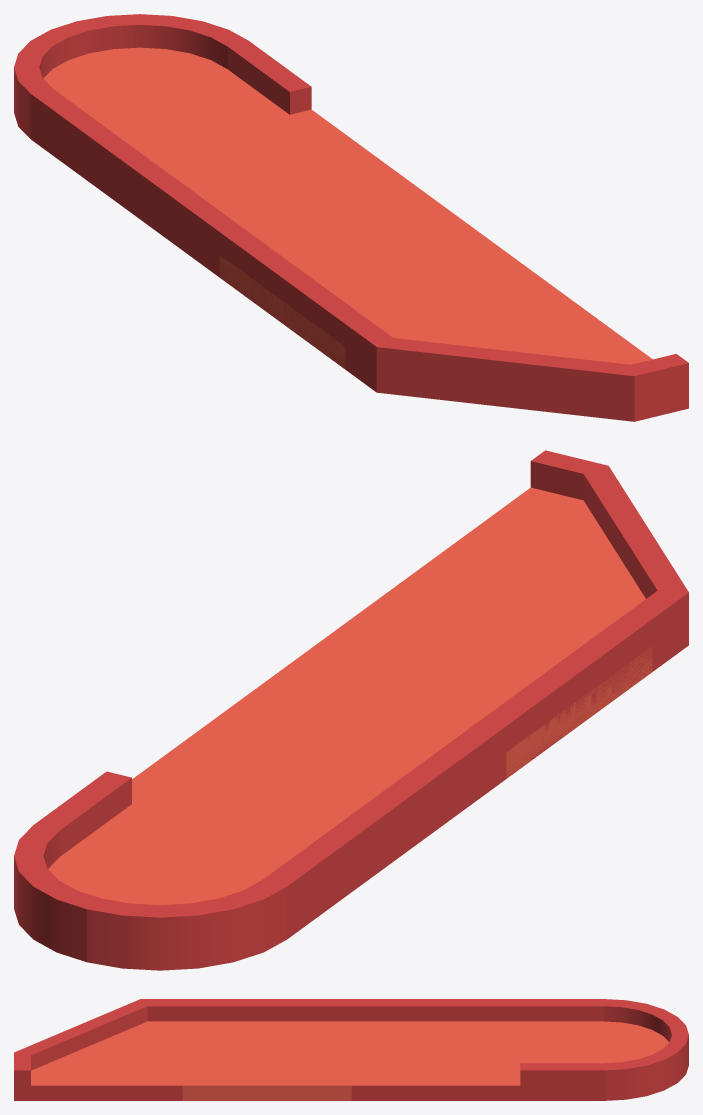
3 renders of one model, top to bottom at view 1: azimuth 30°, elevation 25°; view 2: azimuth 150°, elevation 25°; view 3: azimuth 270°, elevation 25°, orthographic. The views are drawn at different scales.
Parts seen in each view (by area): view 1: roof_flatEdge (×2), roof_flatRoundOpen, roof_flatCornerLargeOpen, roof_flatCenter; view 2: roof_flatEdge (×2), roof_flatRoundOpen, roof_flatCenter, roof_flatCornerLargeOpen; view 3: roof_flatEdge (×2), roof_flatRoundOpen, roof_flatCornerLargeOpen, roof_flatCenter.
Part boxes in pixels (<box>): roof_flatEdge (×2): <box>93,109,561,368</box>; roof_flatRoundOpen: <box>14,14,311,184</box>; roof_flatCornerLargeOpen: <box>345,294,688,421</box>; roof_flatCenter: <box>219,202,562,369</box>; roof_flatEdge (×2): <box>132,584,652,885</box>; roof_flatRoundOpen: <box>14,771,359,970</box>; roof_flatCenter: <box>253,584,652,778</box>; roof_flatCornerLargeOpen: <box>399,450,688,671</box>; roof_flatEdge (×2): <box>182,999,520,1100</box>; roof_flatRoundOpen: <box>520,999,688,1100</box>; roof_flatCornerLargeOpen: <box>14,999,182,1100</box>; roof_flatCenter: <box>182,1021,351,1100</box>.
Size of the model in its own units: 10 by 2 by 40.
